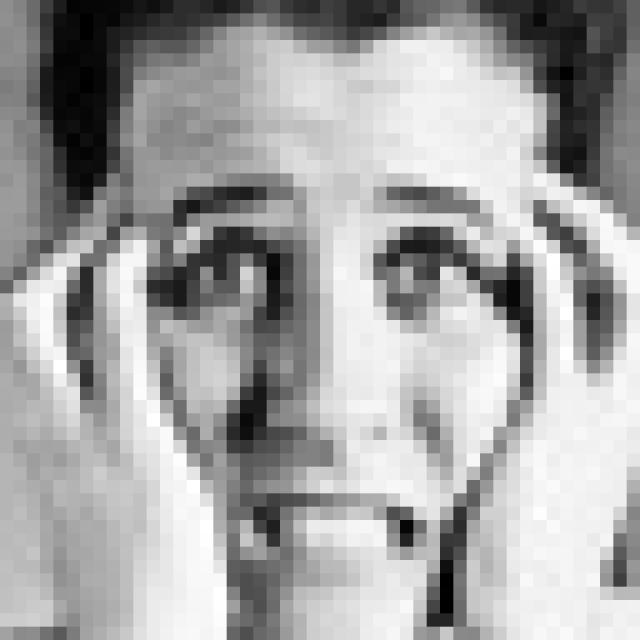fear: (145, 161, 538, 590)
